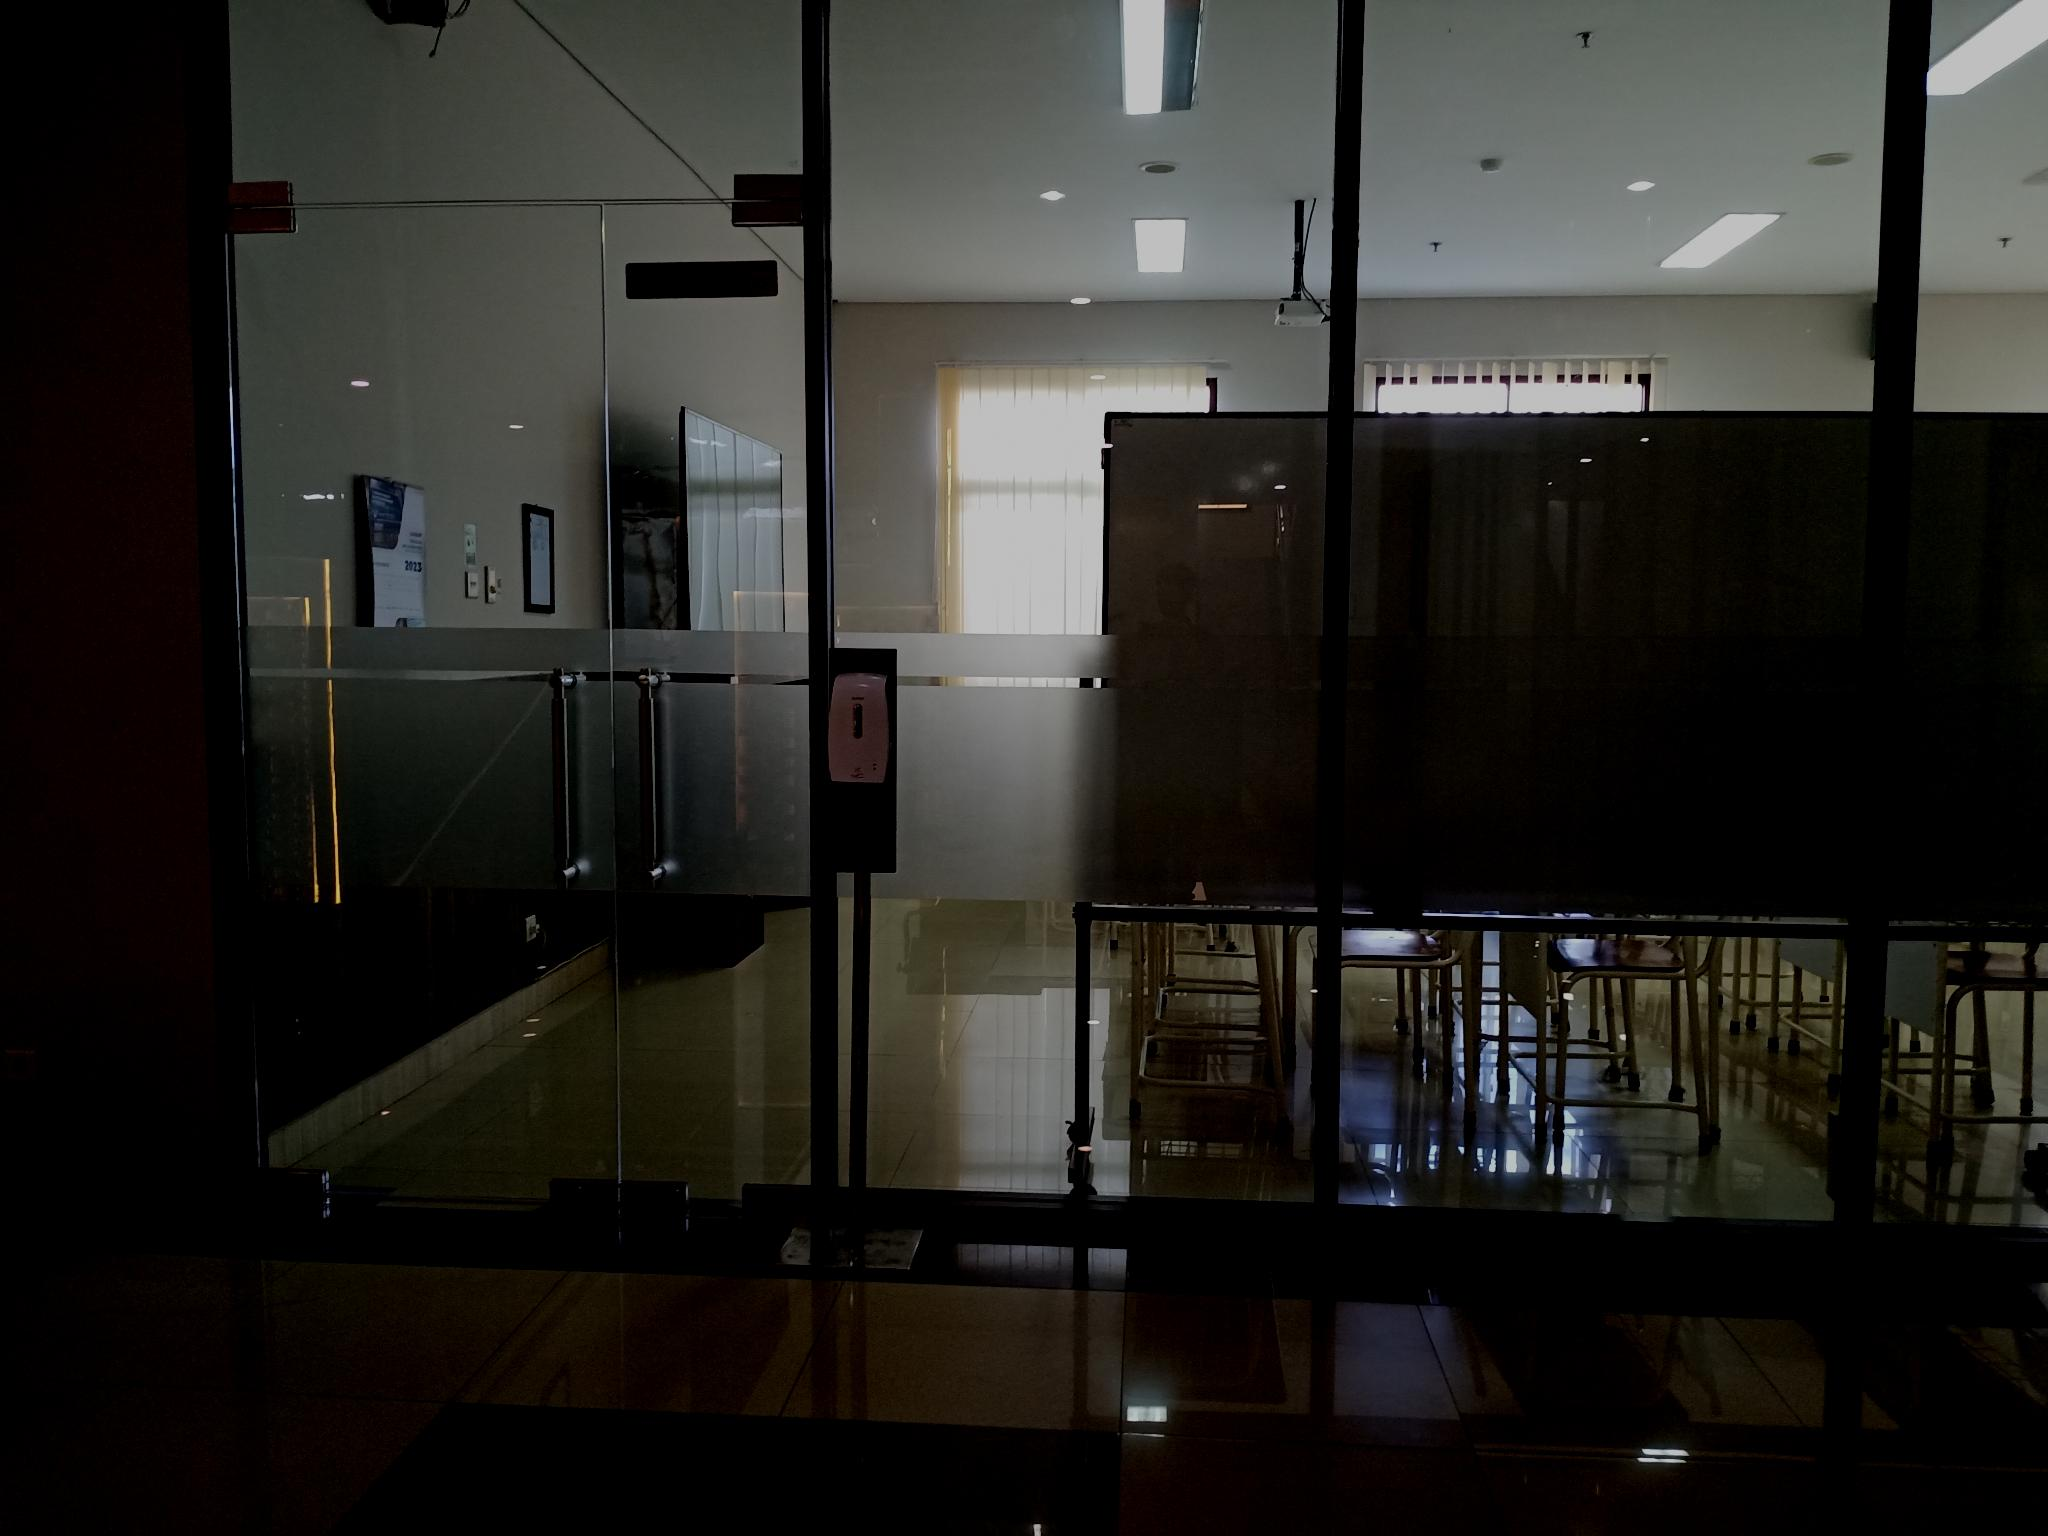plate: (624, 258, 779, 300)
